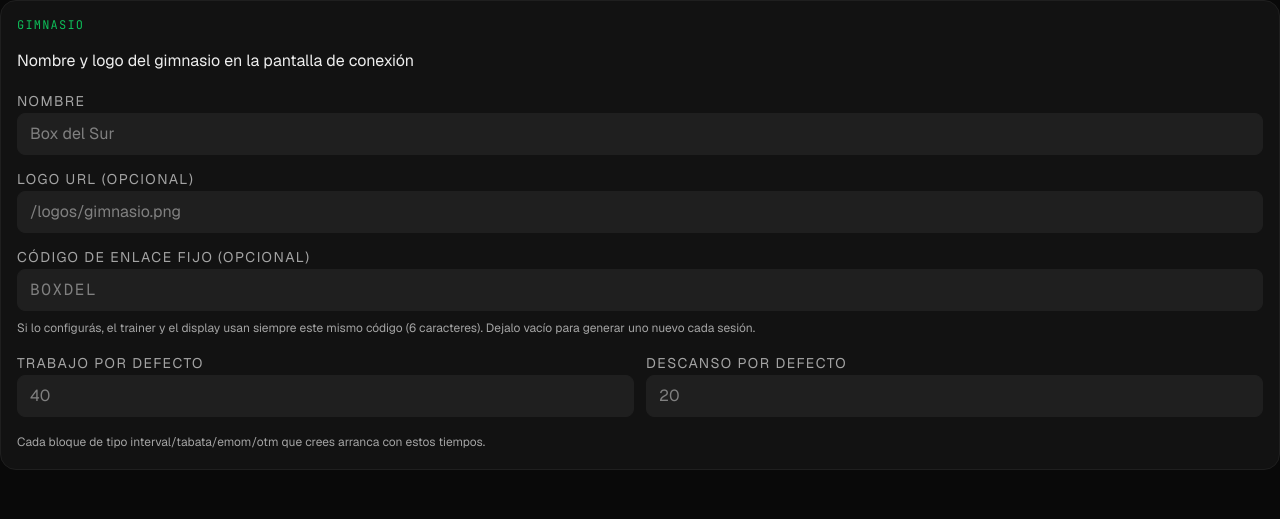
Test: GymSettings › saves the field on blur and reports 'Cambios guardados'
Type "CrossFit Norte" into the field named "Nombre del gimnasio" at (640, 134), box x1=17 y1=113 x2=1263 y2=155
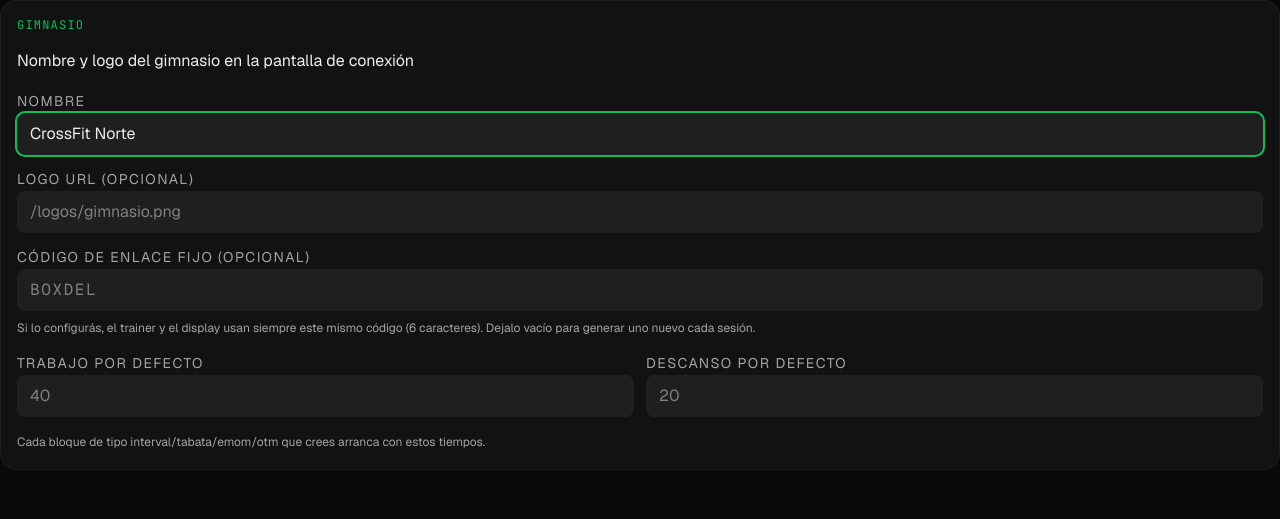
Press Tab
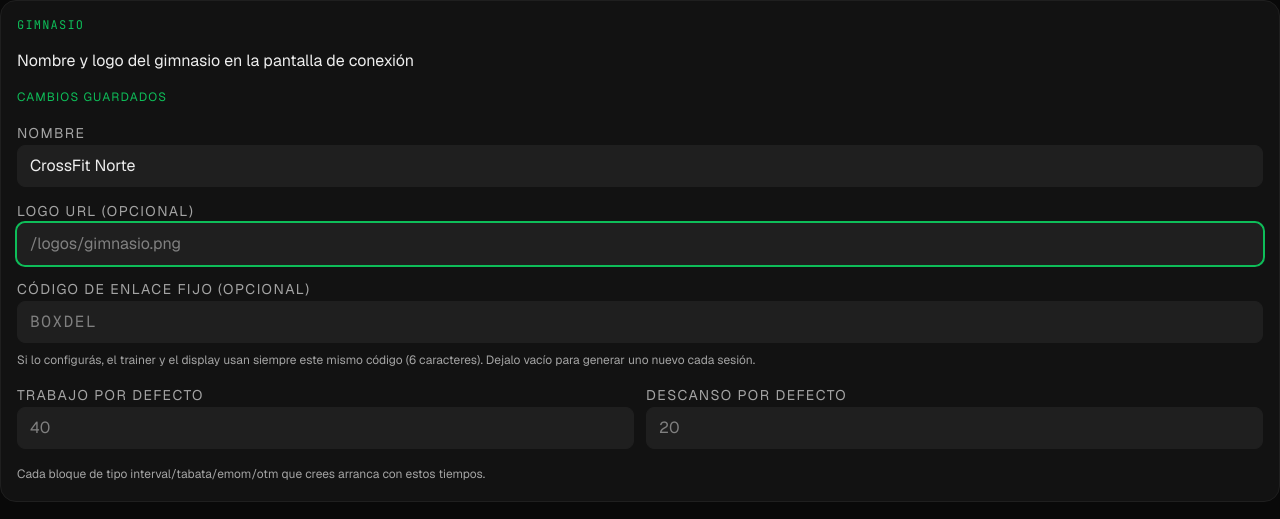
Check: the message reads "Cambios guardados", box x1=17 y1=89 x2=167 y2=105
